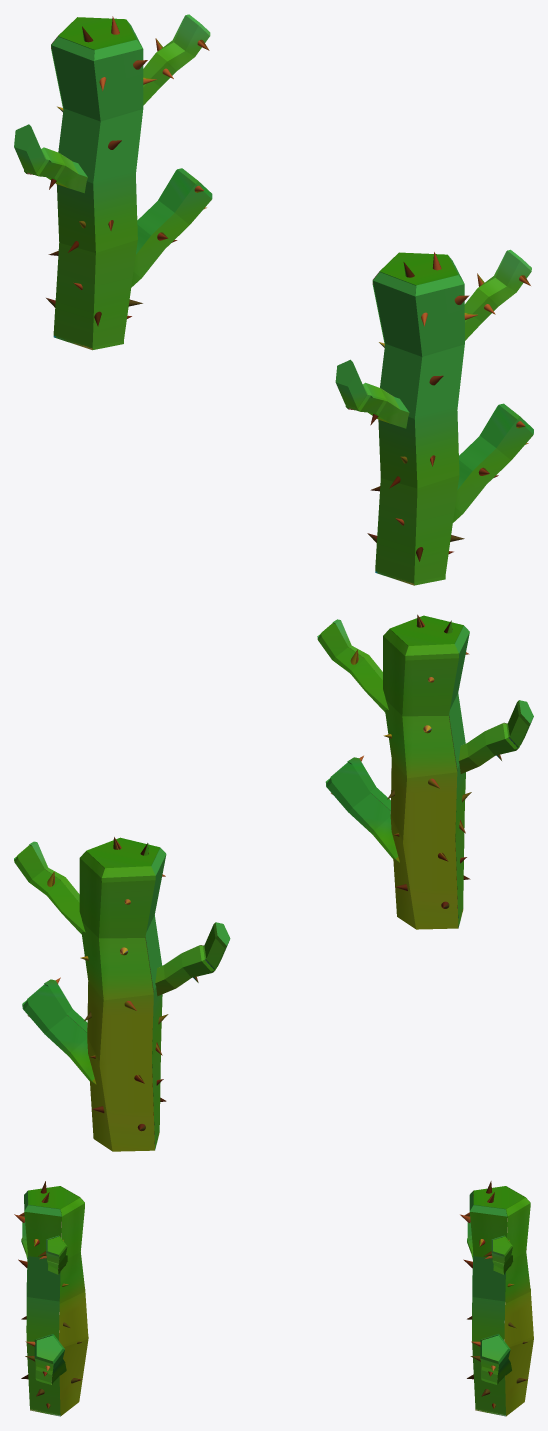
Rendered from Cactus.fbx.
3 views of the same model, one above another, from view 1: azimuth 30°, elevation 25°; view 2: azimuth 150°, elevation 25°; view 3: azimuth 270°, elevation 25° (orthographic). The views are drawn at different scales.
Parts seen in each view (by area): view 1: Cilindro.004, Cilindro, Cilindro.005, Cilindro.001, Cilindro.002, Cilindro.007, Cilindro.003, Cilindro.006; view 2: Cilindro.004, Cilindro, Cilindro.005, Cilindro.001, Cilindro.002, Cilindro.007, Cilindro.006, Cilindro.003; view 3: Cilindro, Cilindro.004, Cilindro.001, Cilindro.005, Cilindro.006, Cilindro.003.
Part boxes in pixels (x1,y1,x2,y2): Cilindro.004: (51,17,143,350); Cilindro: (372,252,464,585); Cilindro.005: (131,168,212,287); Cilindro.001: (453,403,533,522); Cilindro.002: (335,359,409,428); Cilindro.007: (14,124,87,193); Cilindro.003: (464,249,531,340); Cilindro.006: (143,14,210,105); Cilindro.004: (79,837,166,1151); Cilindro: (383,615,469,929); Cilindro.005: (22,979,96,1084); Cilindro.001: (325,757,399,862); Cilindro.002: (458,700,533,773); Cilindro.007: (155,922,230,996); Cilindro.006: (14,841,85,933); Cilindro.003: (317,619,388,712); Cilindro: (24,1186,88,1416); Cilindro.004: (469,1186,533,1416); Cilindro.001: (34,1333,66,1384); Cilindro.005: (480,1333,511,1384); Cilindro.006: (491,1235,513,1274); Cilindro.003: (46,1235,67,1274).
Bounding box in the file's own units: 494 × 721 × 1542.
1 material, 1 textured.
